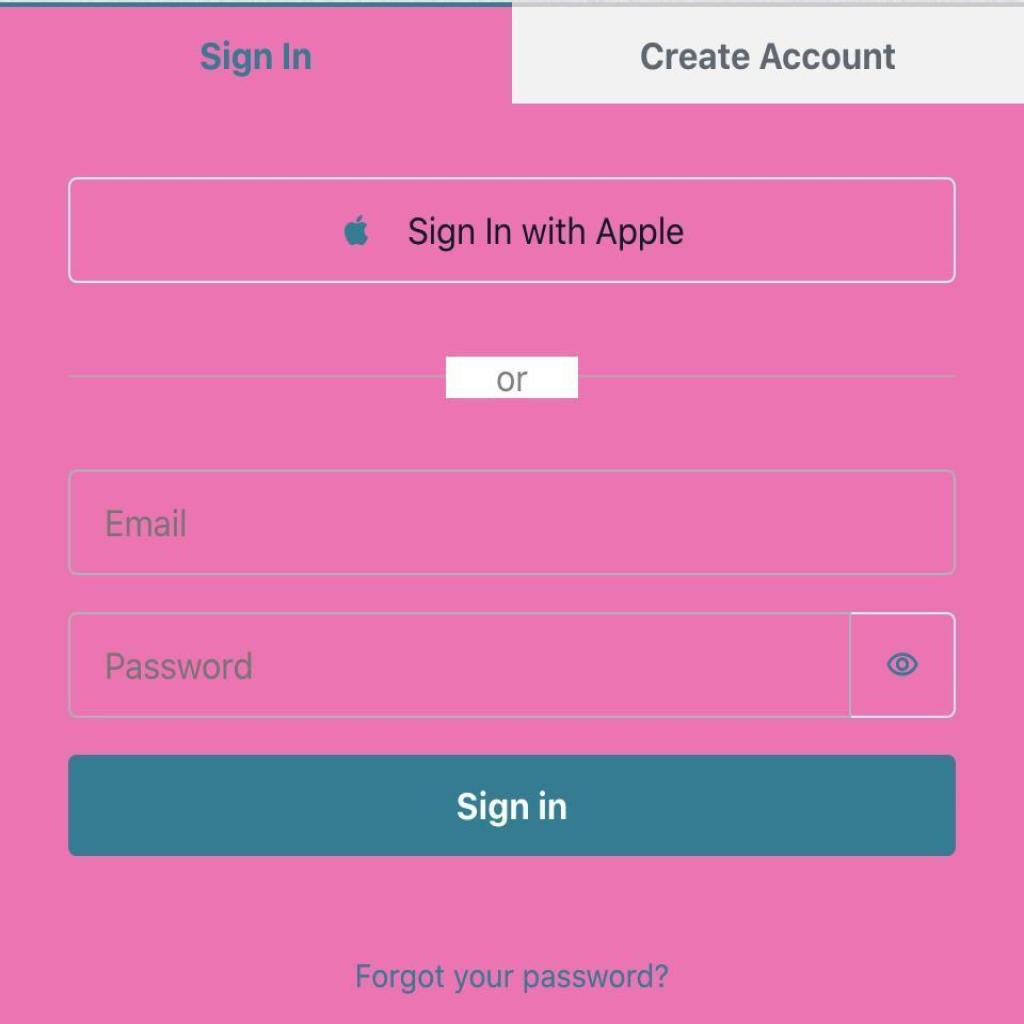button: (67, 175, 959, 281)
icon: (886, 646, 920, 684)
input: (69, 751, 959, 857), (70, 470, 958, 574), (70, 612, 852, 716)
label: (351, 952, 677, 998), (635, 38, 896, 76), (195, 40, 320, 80)
